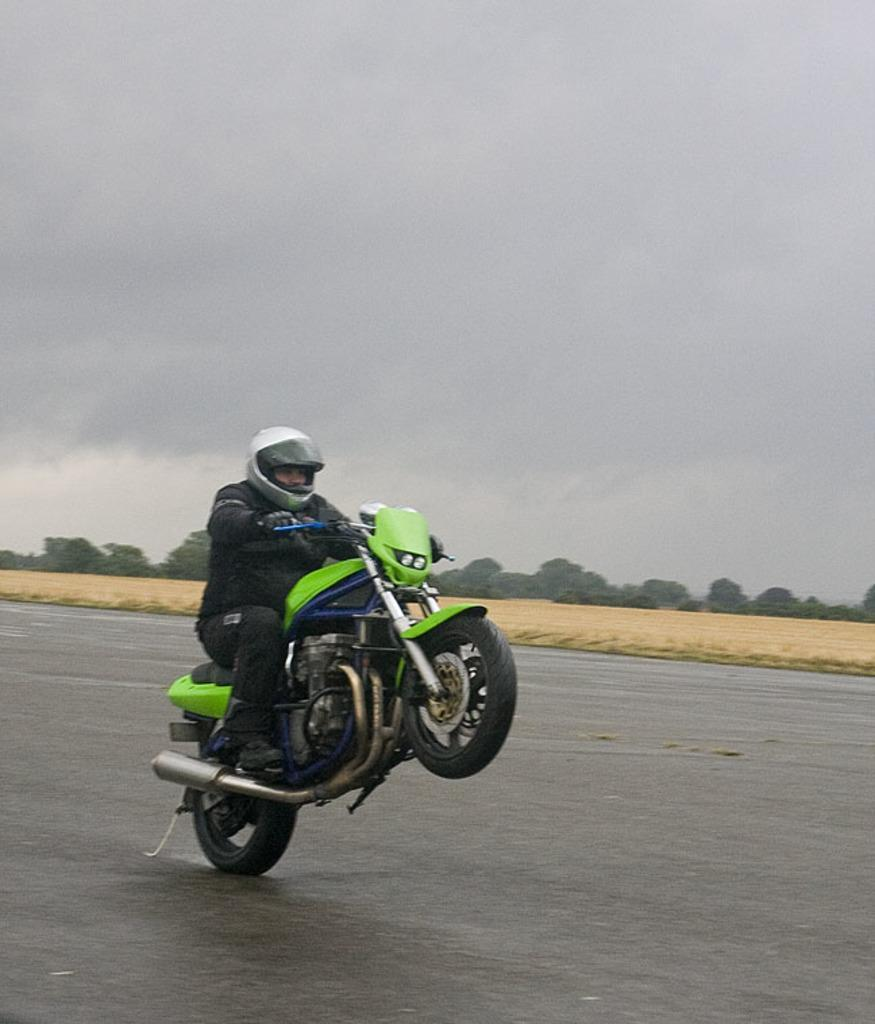helmet: (246, 425, 327, 514)
